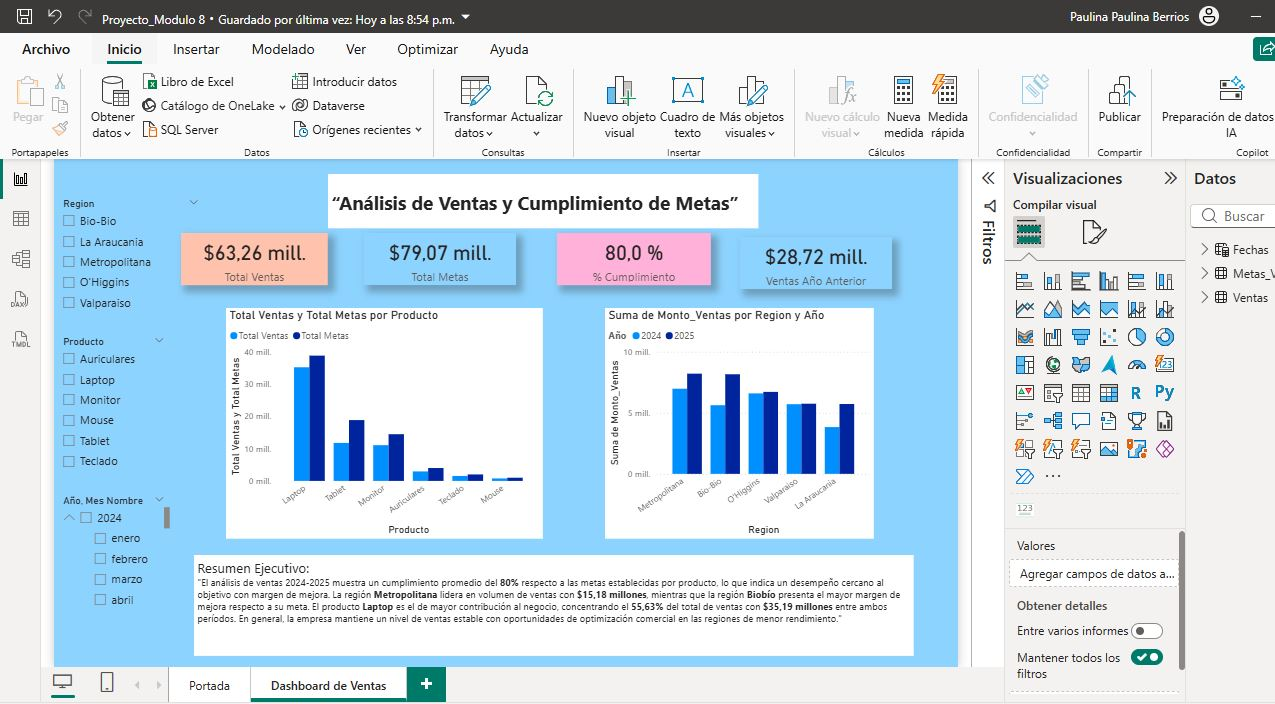

This screenshot's page, from the dashboard's own definition file:
{"tool":"powerbi","page":{"name":"Dashboard de Ventas","canvas":[1280,720],"ordinal":1},"visuals":[{"type":"clusteredColumnChart","fields":{"Y":["Ventas.Total Ventas","Metas_Ventas.Total Metas"],"Category":["Metas_Ventas.Producto"]},"box":[243.8,211.2,449.3,327.4],"z":0},{"type":"card","fields":{"Values":["Ventas.Total Ventas"]},"box":[180,104.9,208.3,73.7],"z":1000},{"type":"card","fields":{"Values":["Metas_Ventas.Total Metas"]},"box":[439.4,104.9,215.4,73.7],"z":2000},{"type":"card","fields":{"Values":["Ventas.% Cumplimiento"]},"box":[712.9,104.9,218.3,73.7],"z":3000},{"type":"slicer","fields":{"Values":["Ventas.Region"]},"box":[0,49,217.4,195.8],"z":4000},{"type":"slicer","fields":{"Values":["Metas_Ventas.Producto"]},"box":[0,244.8,168.5,208.8],"z":5000},{"type":"textbox","box":[198.4,561.3,1020.5,143.1],"z":6000},{"type":"textbox","box":[388,21.8,609.8,77.3],"z":7000},{"type":"slicer","fields":{"Values":["Ventas.Año","Fechas.Mes Nombre"]},"box":[0,470.6,168.7,180],"z":8000},{"type":"clusteredColumnChart","fields":{"Y":["Sum(Ventas.Monto_Ventas)"],"Series":["Fechas.Año"],"Category":["Ventas.Region"]},"box":[780.9,211.2,381.3,327.4],"z":9000},{"type":"card","fields":{"Values":["Ventas.Ventas Año Anterior"]},"box":[972.3,110.6,215.4,73.7],"z":10000}]}

Visuals, with their boxes on the page's 1280x720 design canvas (x1, y1, x2, y2). These are canvas units, not pixel positions in the 1275x704 screenshot, which may show the page scaled, cropped or inside an application window:
clusteredColumnChart - Ventas.Total Ventas x Metas_Ventas.Total Metas: l=244, t=211, r=693, b=539
card - Ventas.Total Ventas: l=180, t=105, r=388, b=179
card - Metas_Ventas.Total Metas: l=439, t=105, r=655, b=179
card - Ventas.% Cumplimiento: l=713, t=105, r=931, b=179
slicer - Ventas.Region: l=0, t=49, r=217, b=245
slicer - Metas_Ventas.Producto: l=0, t=245, r=168, b=454
textbox: l=198, t=561, r=1219, b=704
textbox: l=388, t=22, r=998, b=99
slicer - Ventas.Año x Fechas.Mes Nombre: l=0, t=471, r=169, b=651
clusteredColumnChart - Sum(Ventas.Monto_Ventas) x Fechas.Año: l=781, t=211, r=1162, b=539
card - Ventas.Ventas Año Anterior: l=972, t=111, r=1188, b=184
